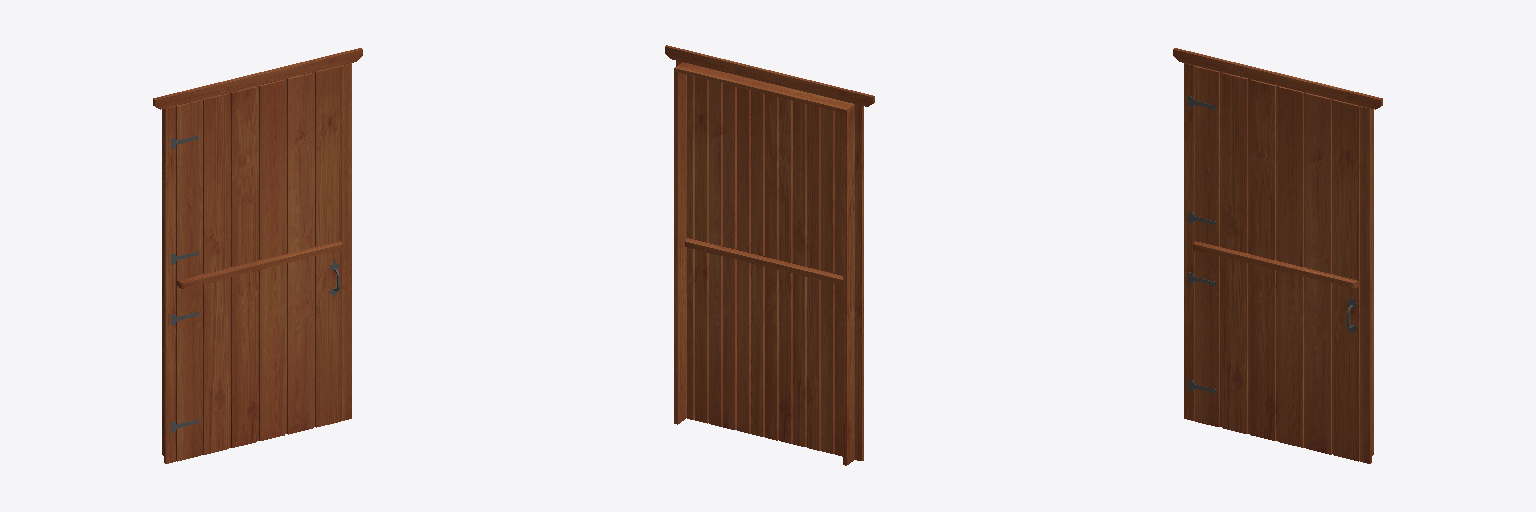
3 renders of one model, left to right at view 1: azimuth 30°, elevation 25°; view 2: azimuth 150°, elevation 25°; view 3: azimuth 330°, elevation 25°, orthographic.
Parts seen in each view (by area): view 1: planck003, planck002, planck004, planck005, planck001, planck006, trim_left, trrim_right, trim_top, door_stop, box_left; view 2: planck002, planck005, planck003, planck004, planck006, planck001, box_left, right_door_jamb, trim_left, trim_top, top_door_jamb, door_stop; view 3: planck005, planck002, planck004, planck003, planck001, planck006, trrim_right, trim_left, trim_top, door_stop, right_door_jamb.
Boxes of the visible parts, x1=… form: planck003: x1=231, y1=85, x2=259, y2=447; planck002: x1=203, y1=93, x2=230, y2=454; planck004: x1=259, y1=78, x2=288, y2=440; planck005: x1=287, y1=72, x2=314, y2=434; planck001: x1=176, y1=98, x2=206, y2=461; planck006: x1=315, y1=66, x2=340, y2=427; trim_left: x1=164, y1=106, x2=175, y2=463; trrim_right: x1=341, y1=63, x2=351, y2=420; trim_top: x1=153, y1=48, x2=362, y2=109; door_stop: x1=176, y1=241, x2=342, y2=288; box_left: x1=162, y1=109, x2=163, y2=455; planck002: x1=793, y1=101, x2=820, y2=450; planck005: x1=709, y1=80, x2=736, y2=429; planck003: x1=765, y1=94, x2=792, y2=443; planck004: x1=737, y1=87, x2=764, y2=436; planck006: x1=687, y1=75, x2=708, y2=423; planck001: x1=821, y1=108, x2=842, y2=456; box_left: x1=843, y1=108, x2=854, y2=465; right_door_jamb: x1=674, y1=72, x2=685, y2=424; trim_left: x1=855, y1=104, x2=863, y2=460; trim_top: x1=665, y1=45, x2=874, y2=106; top_door_jamb: x1=674, y1=62, x2=854, y2=113; door_stop: x1=685, y1=238, x2=842, y2=285; planck005: x1=1306, y1=93, x2=1337, y2=454; planck002: x1=1222, y1=73, x2=1251, y2=433; planck004: x1=1278, y1=86, x2=1305, y2=447; planck003: x1=1250, y1=80, x2=1280, y2=440; planck001: x1=1195, y1=66, x2=1222, y2=426; planck006: x1=1334, y1=100, x2=1359, y2=461; trrim_right: x1=1360, y1=106, x2=1371, y2=463; trim_left: x1=1184, y1=63, x2=1194, y2=420; trim_top: x1=1173, y1=48, x2=1382, y2=109; door_stop: x1=1193, y1=241, x2=1359, y2=288; right_door_jamb: x1=1372, y1=109, x2=1373, y2=455.
Bounding box in the file's own units: 44.12 × 74.25 × 5.41.
9 materials, 8 textured.